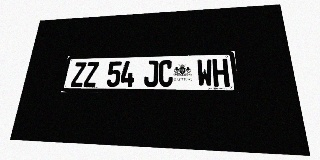4: (120, 61, 135, 87)
5: (106, 61, 122, 87)
C: (158, 60, 173, 87)
H: (212, 59, 230, 87)
J: (144, 60, 158, 87)
W: (197, 59, 213, 87)
Z: (70, 62, 87, 87), (83, 62, 99, 87)
